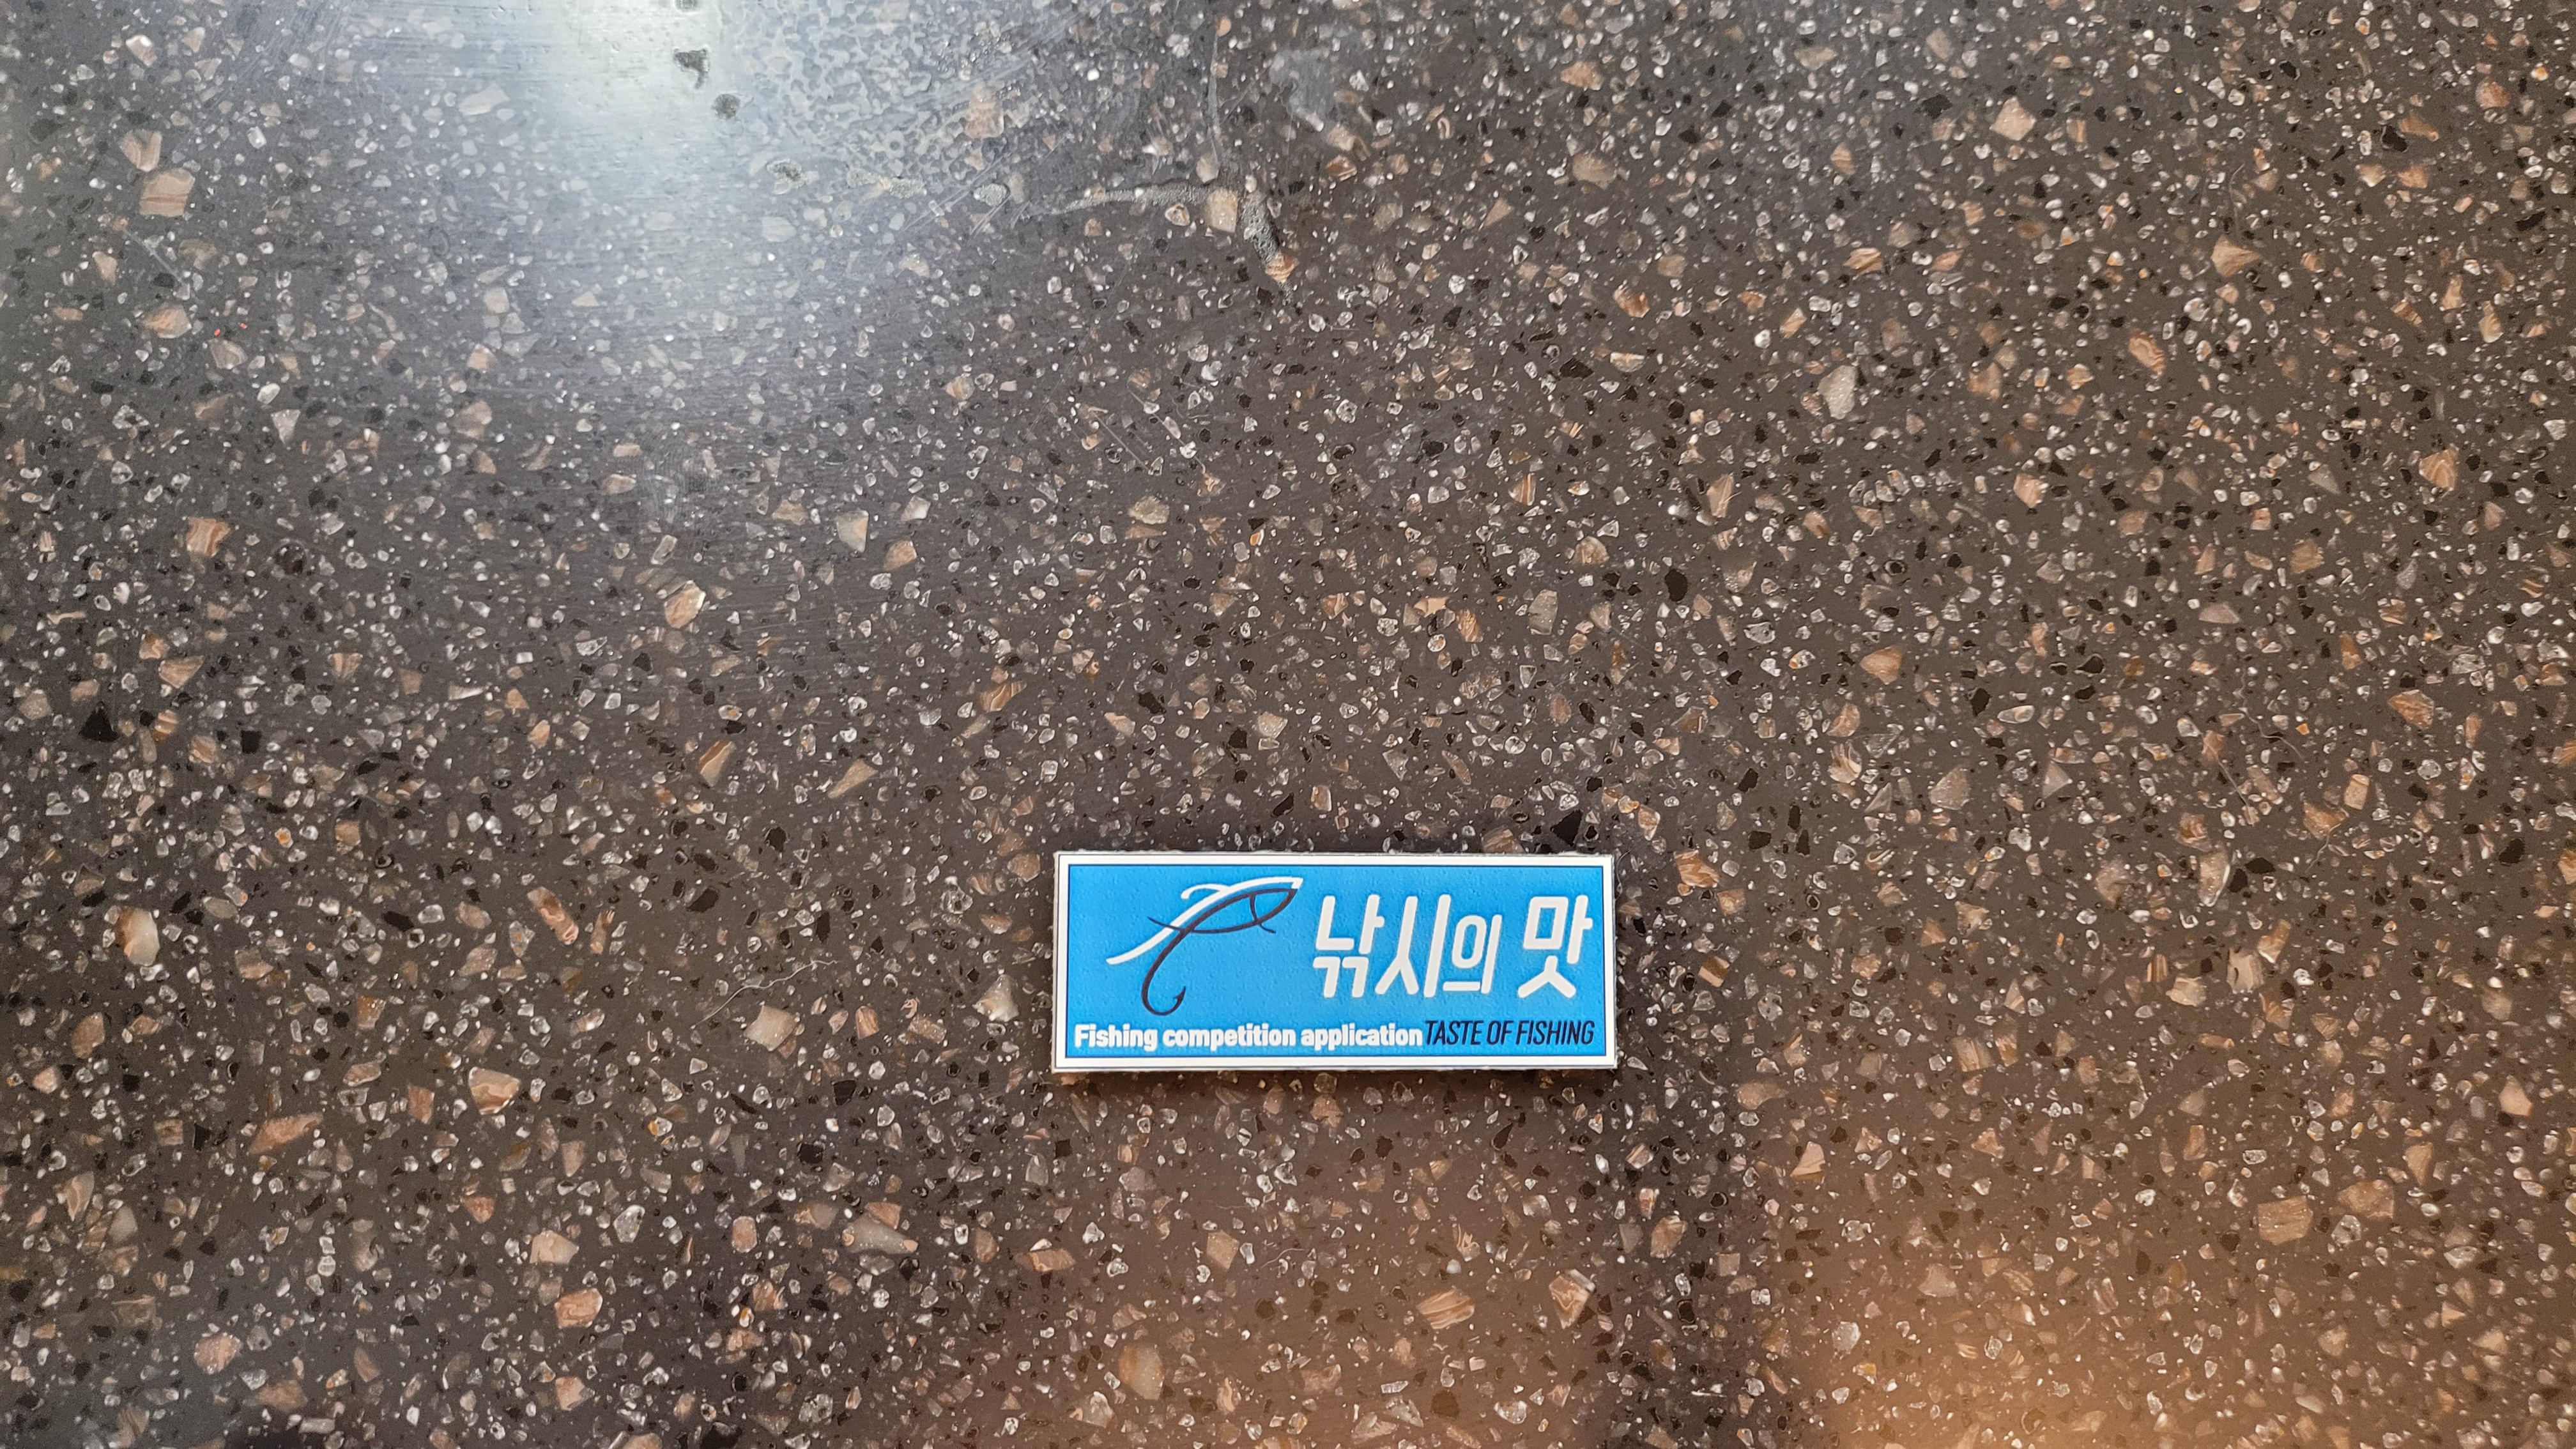tag: (1047, 851, 1615, 1067)
